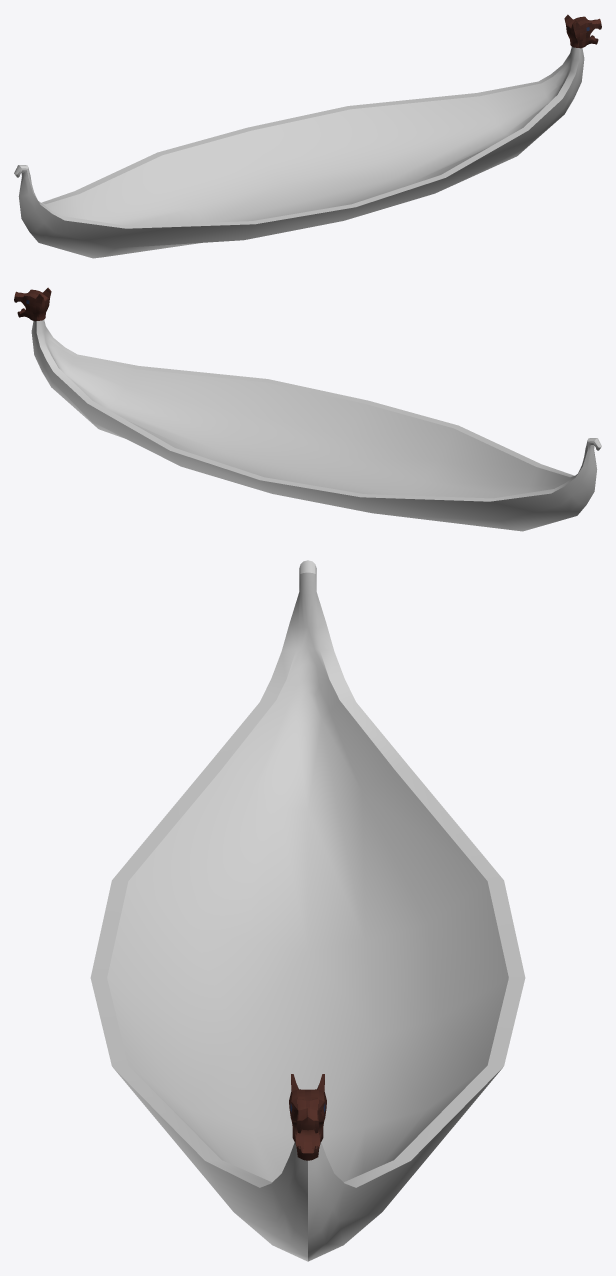
The model's file is mdl_boat 1.fbx.
3 renders of one model, top to bottom at view 1: azimuth 30°, elevation 25°; view 2: azimuth 150°, elevation 25°; view 3: azimuth 270°, elevation 25°, orthographic. The views are drawn at different scales.
Parts seen in each view (by area): view 1: Barco; view 2: Barco; view 3: Barco.
Part boxes in pixels (x1=…): Barco: x1=14, y1=14, x2=601, y2=258; Barco: x1=14, y1=287, x2=601, y2=531; Barco: x1=90, y1=560, x2=525, y2=1261.
Size of the model in its own units: 1.42 by 0.2925 by 0.4555.
